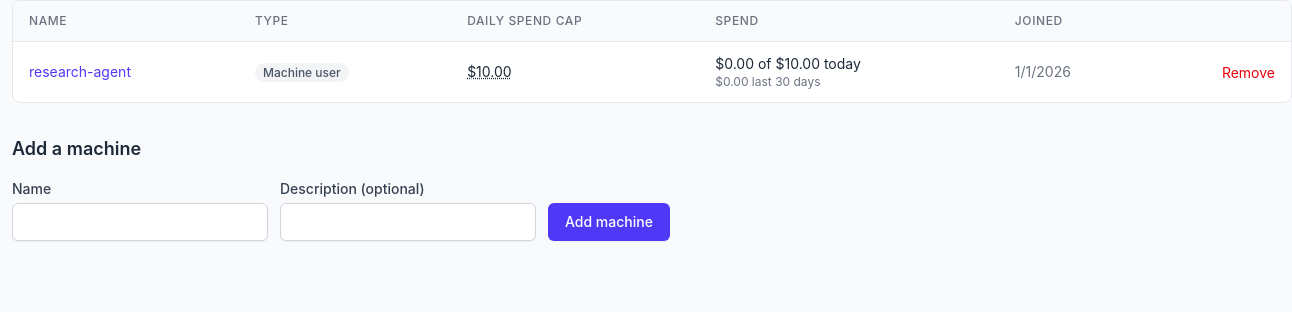
Test: MachinesManager › adding a machine user › shows a network error
This screenshot has width=1292, height=312.
In the field labelled "Name": (140, 222) [12,203,268,241], type "bot"
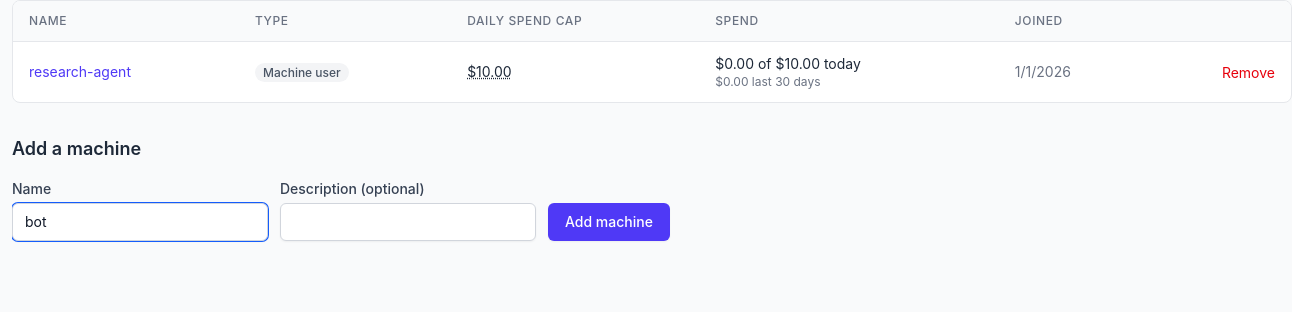
Click the button "Add machine": (609, 222) [548,203,670,241]
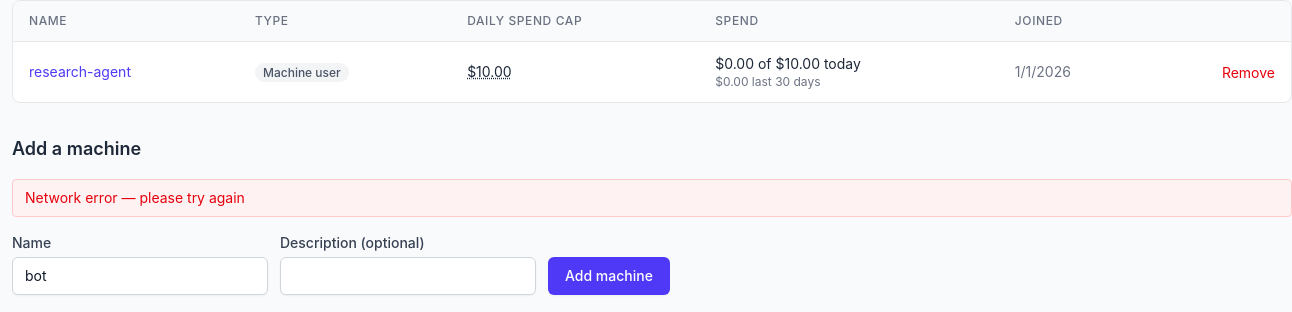
Expected: the message shows "Network error", [25,189,245,206]
